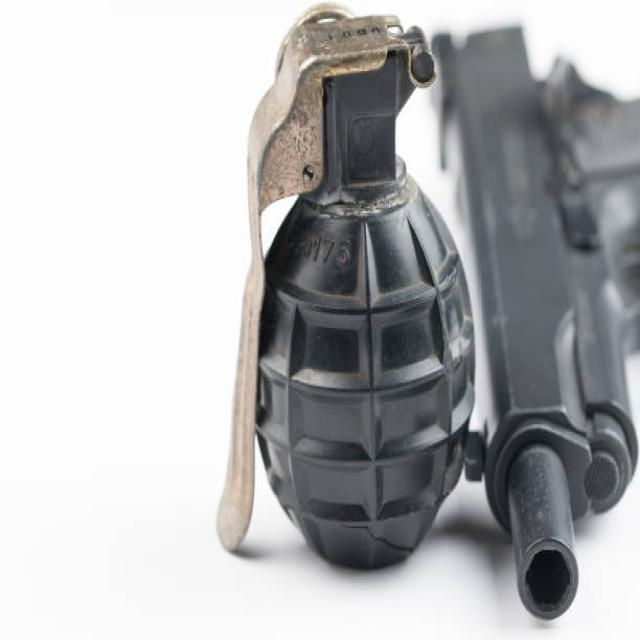grenade: (211, 1, 486, 584)
